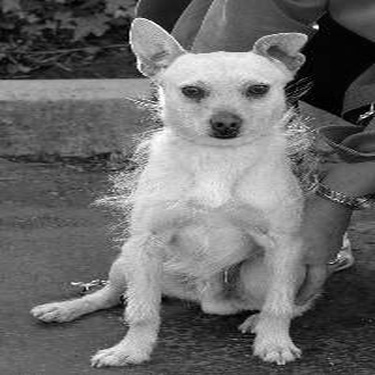dog: (25, 13, 328, 370)
